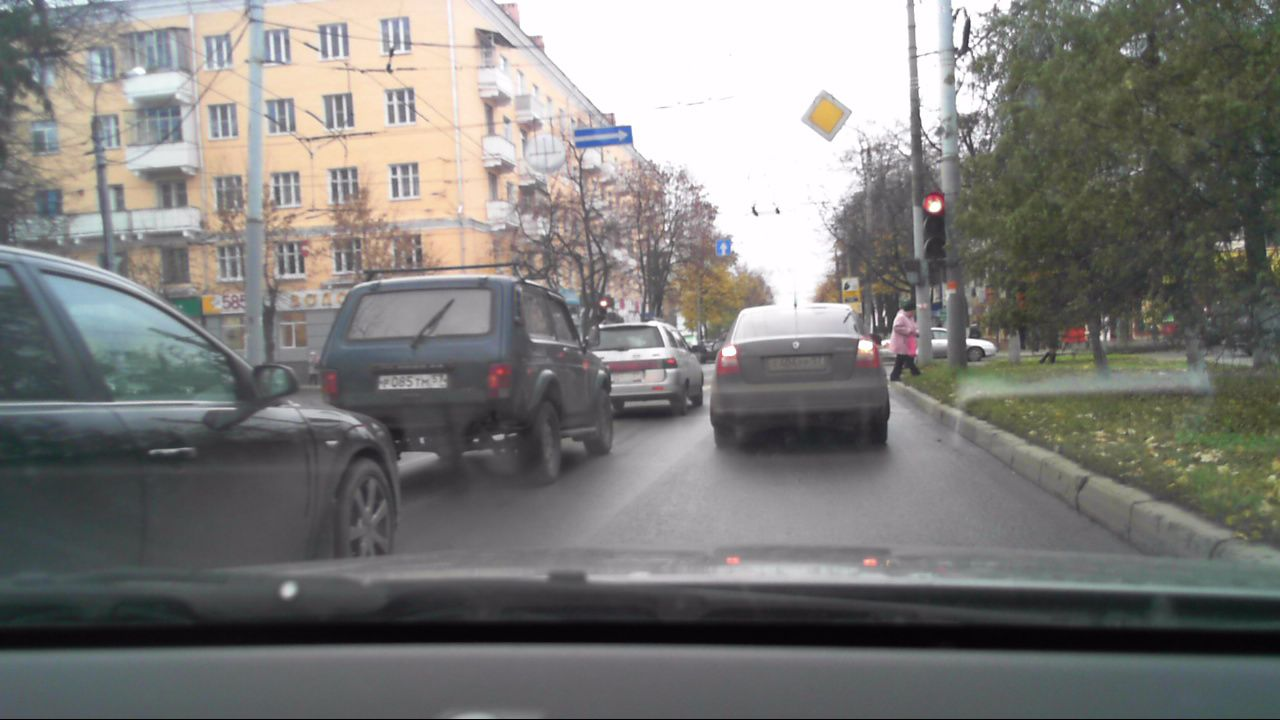One-Way Traffic: (574, 125, 632, 149)
